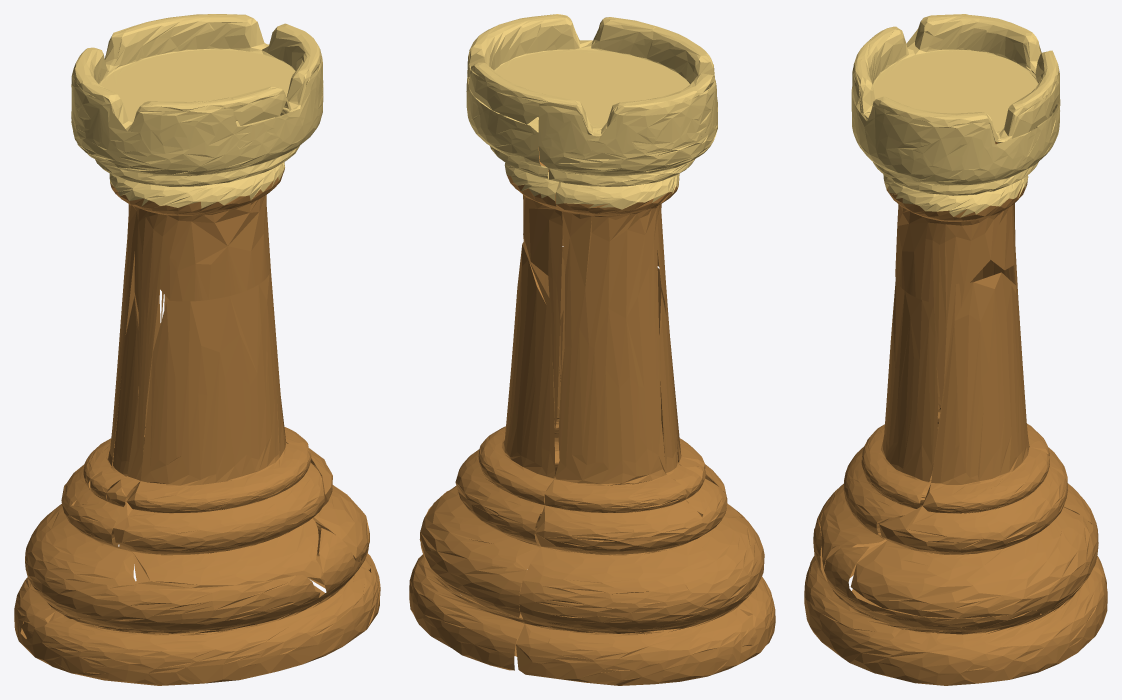
Rendered from gercek3_r_w.glb.
The picture shows the model from 3 angles, left to right: view 1: azimuth 30°, elevation 25°; view 2: azimuth 150°, elevation 25°; view 3: azimuth 270°, elevation 25°; orthographic projection. The views are drawn at different scales.
Visible parts, largest first — view 1: world; view 2: world; view 3: world.
Boxes of the visible parts, bbox=[...] form: world: bbox=[14, 14, 380, 685]; world: bbox=[409, 14, 775, 685]; world: bbox=[804, 14, 1107, 685].
Size of the model in its own units: 0.5525 by 0.9 by 0.4498.
